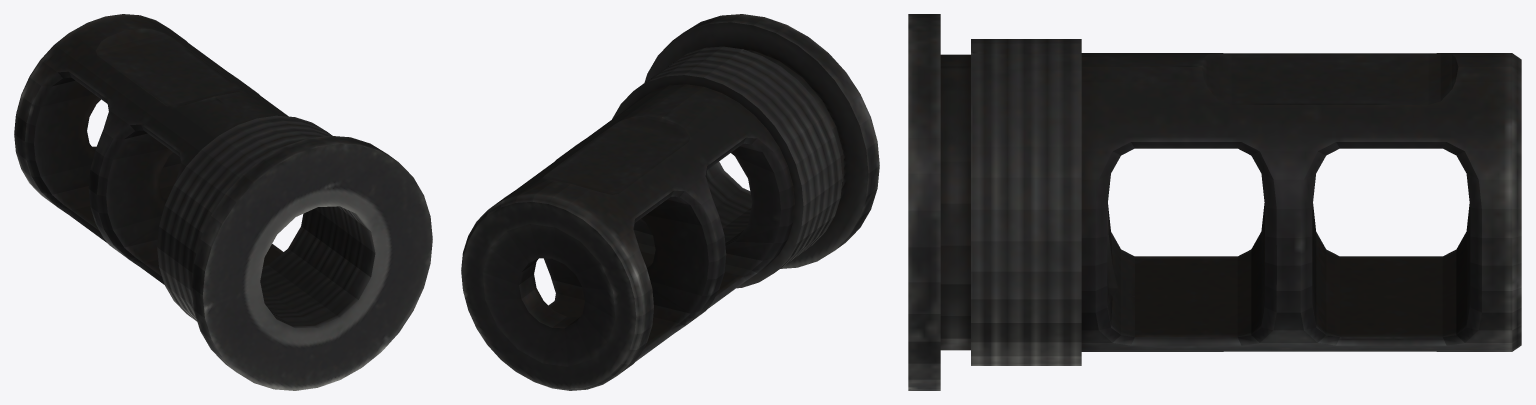
3 renders of one model, left to right at view 1: azimuth 30°, elevation 25°; view 2: azimuth 150°, elevation 25°; view 3: azimuth 270°, elevation 25°, orthographic. The views are drawn at different scales.
Visible parts, largest first — view 1: TW_612e0d3767085e45ef14057f_PZ_Import; view 2: TW_612e0d3767085e45ef14057f_PZ_Import; view 3: TW_612e0d3767085e45ef14057f_PZ_Import.
Boxes of the visible parts, x1,y1,x2,y2 form: TW_612e0d3767085e45ef14057f_PZ_Import: [14, 14, 432, 390]; TW_612e0d3767085e45ef14057f_PZ_Import: [461, 14, 879, 390]; TW_612e0d3767085e45ef14057f_PZ_Import: [908, 14, 1521, 390].
Size of the model in its own units: 0.018 by 0.0292 by 0.018.
Materials: 1 (1 with a texture image).
